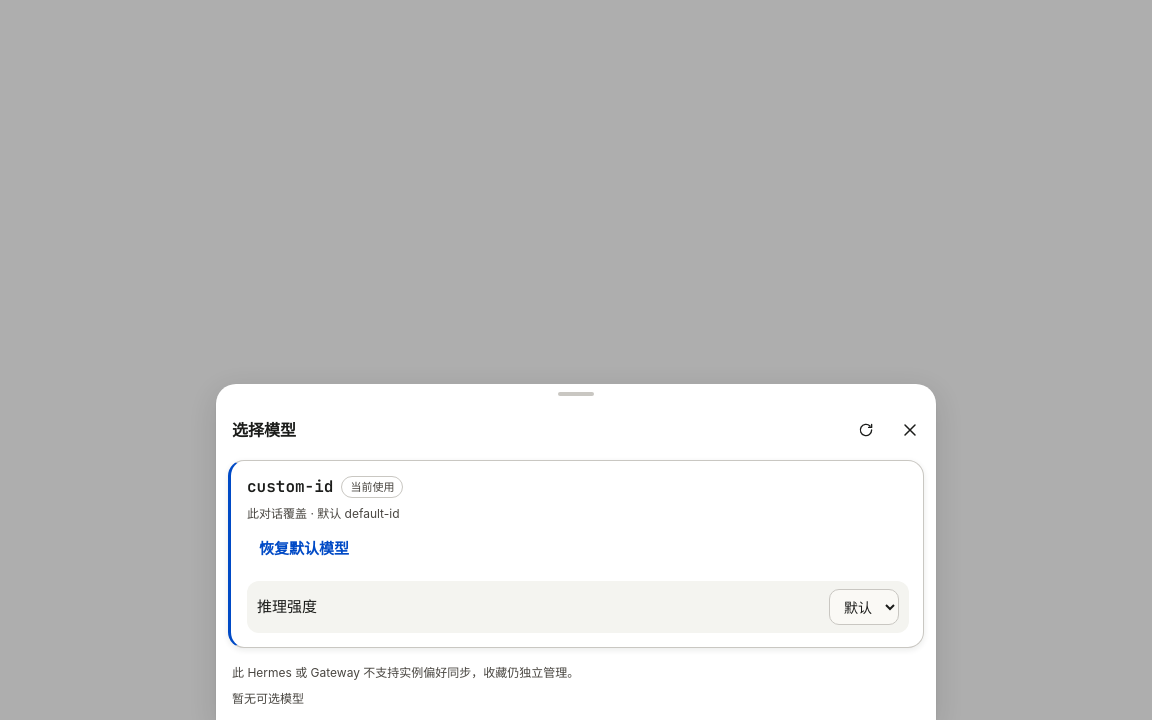
Scenario: restores the profile default through the session action and hides it on read failure
This screenshot has width=1152, height=720.
Click the button "恢复默认模型" at [304, 549], box [247,529,361,569]
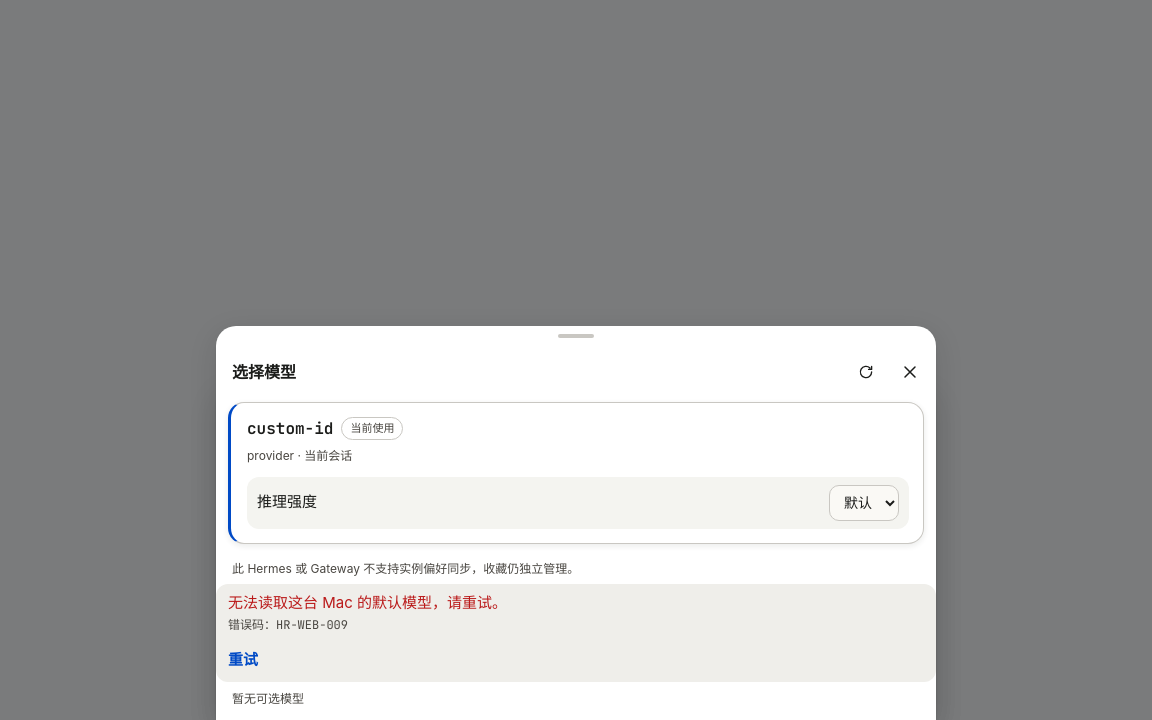
expect the text "恢复默认模型" is not shown: met
expect the text "HR-WEB-009" is shown: met, box [228,617,348,633]
